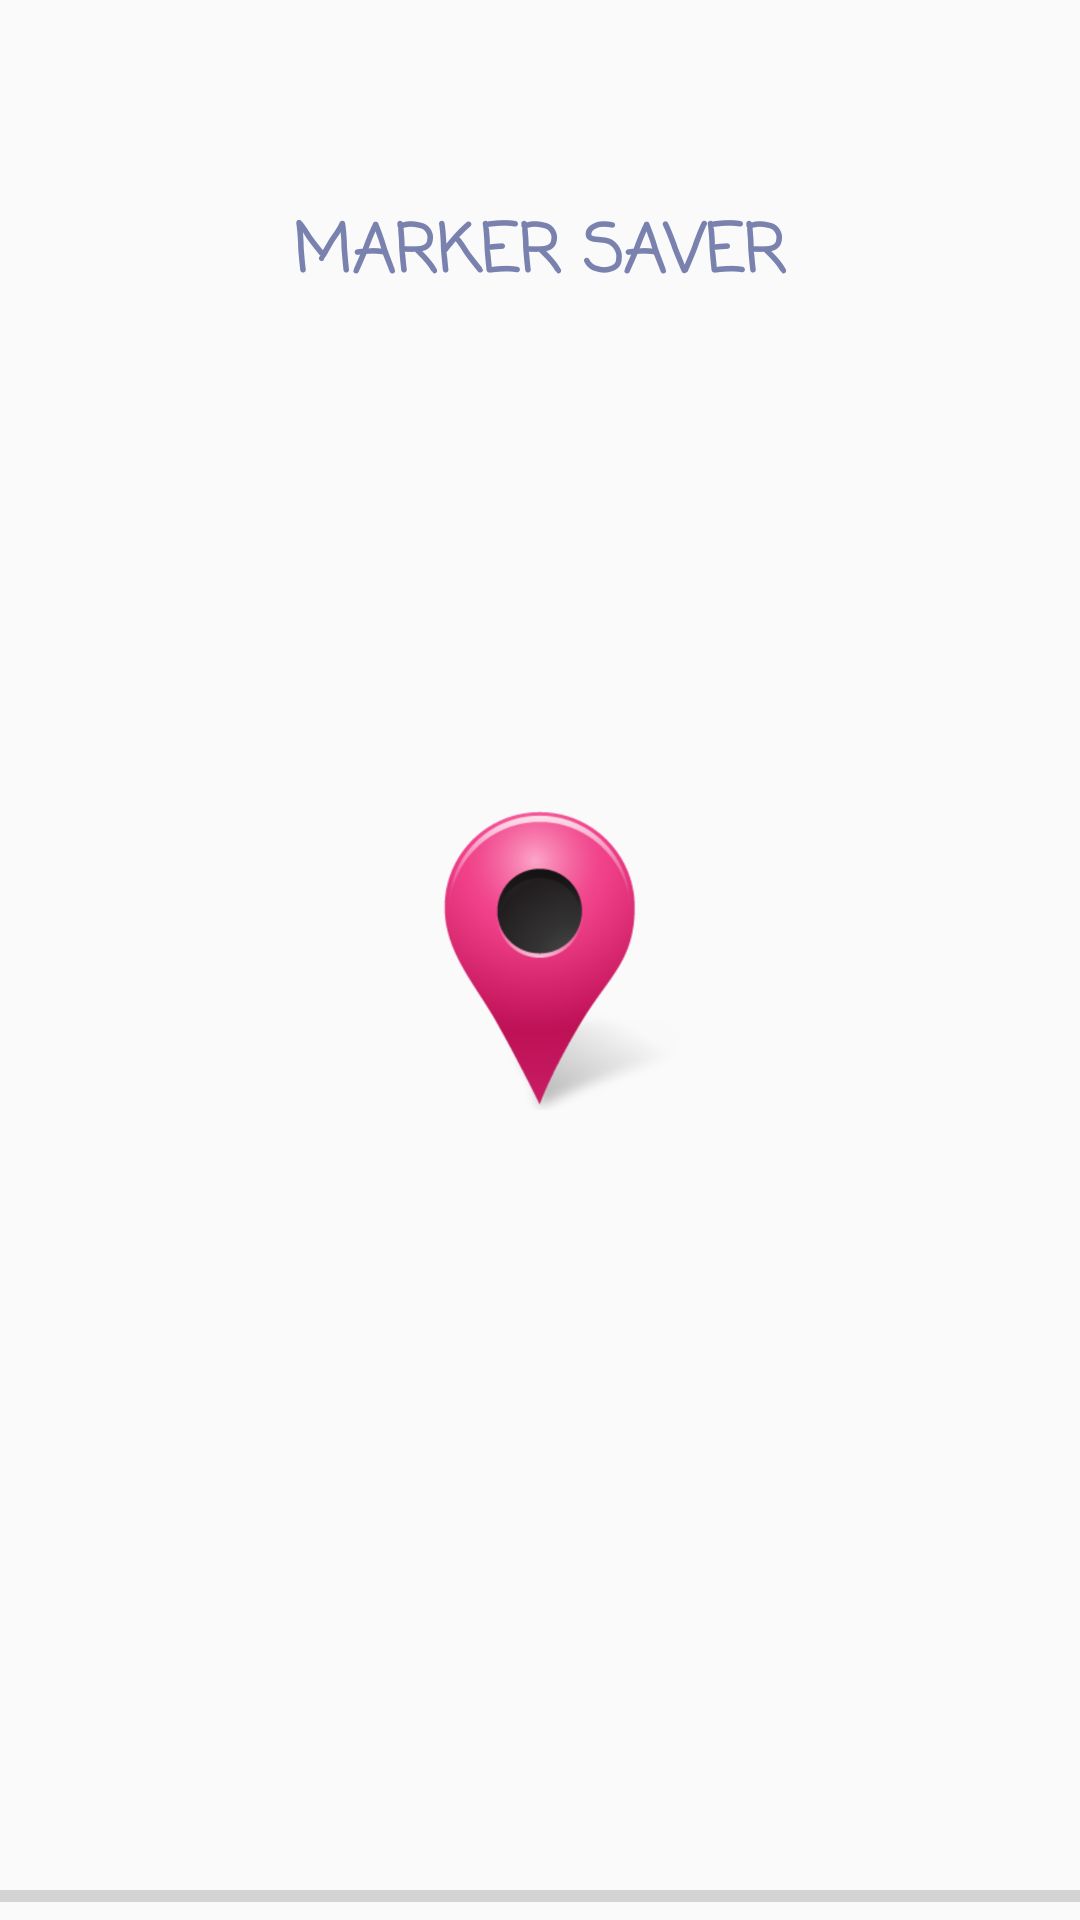

Icons on this 1080 x 1920 Android screen, each with its box as (x1, y1, x2, y2):
marker: (444, 811, 635, 1105)
